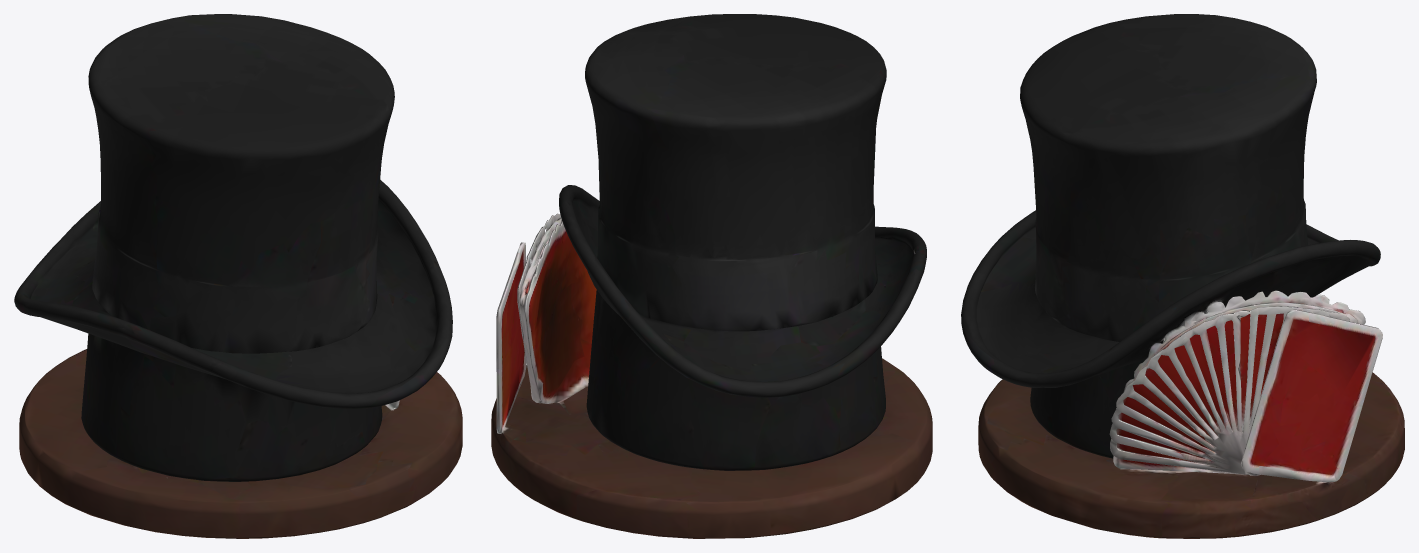
The model's file is cults.glb.
3 renders of one model, left to right at view 1: azimuth 30°, elevation 25°; view 2: azimuth 150°, elevation 25°; view 3: azimuth 270°, elevation 25°, orthographic. The views are drawn at different scales.
Visible parts, largest first — view 1: tripo_node_5ebaa18e-14c5-439e-a910-be07cdc79673; view 2: tripo_node_5ebaa18e-14c5-439e-a910-be07cdc79673; view 3: tripo_node_5ebaa18e-14c5-439e-a910-be07cdc79673.
Part boxes in pixels (x1,y1,x2,y2): tripo_node_5ebaa18e-14c5-439e-a910-be07cdc79673: [14, 14, 462, 538]; tripo_node_5ebaa18e-14c5-439e-a910-be07cdc79673: [491, 14, 932, 538]; tripo_node_5ebaa18e-14c5-439e-a910-be07cdc79673: [961, 14, 1404, 538].
Bounding box in the file's own units: 0.9745 × 0.9299 × 1.
1 material, 1 textured.
